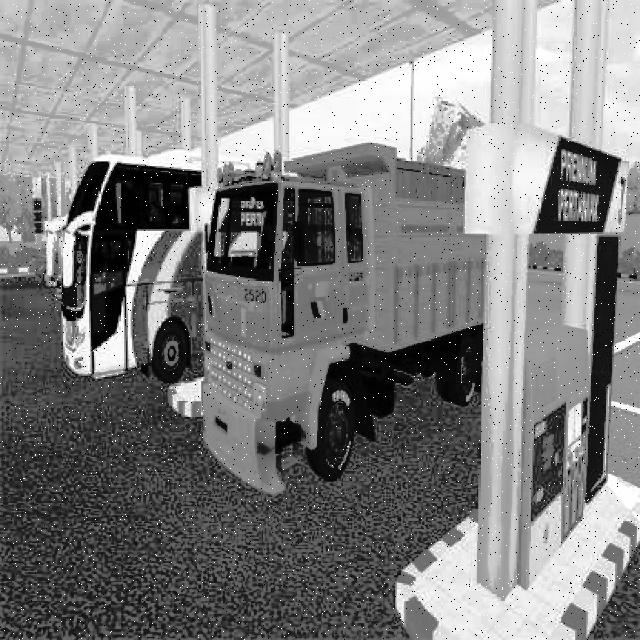HCV: (216, 170, 412, 456)
